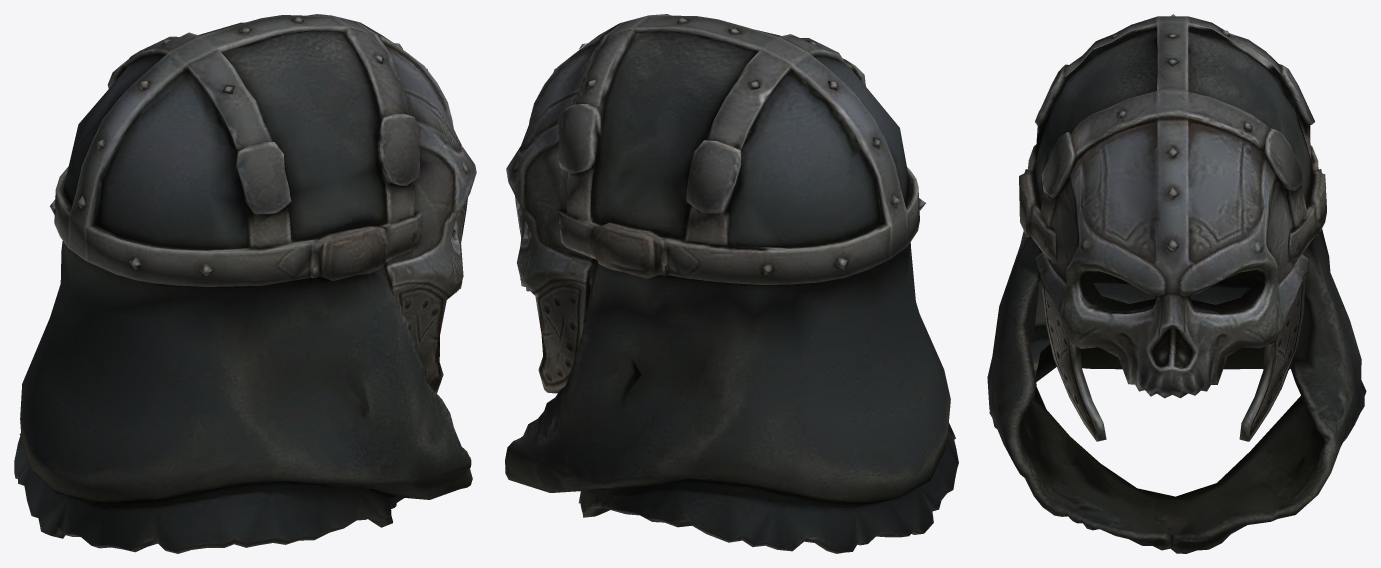
The model's file is necro_helm_steel.glb.
The picture shows the model from 3 angles, left to right: view 1: azimuth 30°, elevation 25°; view 2: azimuth 150°, elevation 25°; view 3: azimuth 270°, elevation 25°; orthographic projection. The views are drawn at different scales.
Parts seen in each view (by area): view 1: tripo_node_be429148-9f5c-4a40-8d62-815180a3cfe5; view 2: tripo_node_be429148-9f5c-4a40-8d62-815180a3cfe5; view 3: tripo_node_be429148-9f5c-4a40-8d62-815180a3cfe5.
Part boxes in pixels (bbox=[...]): tripo_node_be429148-9f5c-4a40-8d62-815180a3cfe5: bbox=[14, 14, 476, 553]; tripo_node_be429148-9f5c-4a40-8d62-815180a3cfe5: bbox=[505, 14, 958, 553]; tripo_node_be429148-9f5c-4a40-8d62-815180a3cfe5: bbox=[987, 14, 1366, 553].
Size of the model in its own units: 0.8769 by 0.998 by 0.7519.
1 material, 1 textured.
